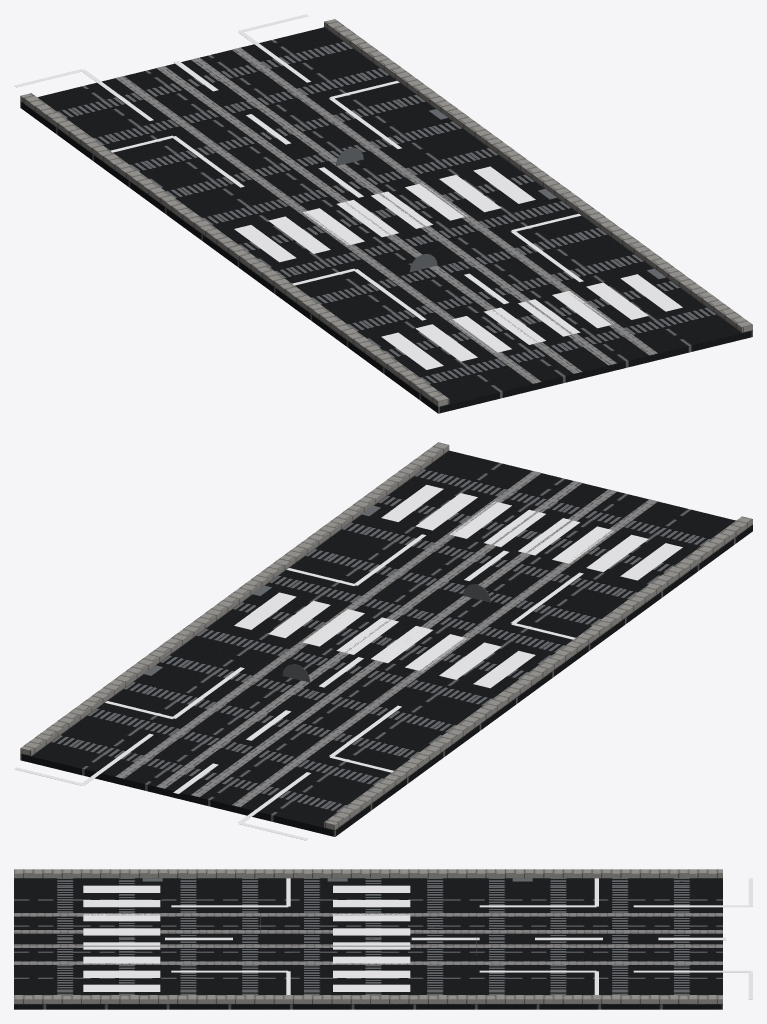
Rendered from turin_roadway_boulevard.glb.
The picture shows the model from 3 angles, top to bottom: view 1: azimuth 30°, elevation 25°; view 2: azimuth 150°, elevation 25°; view 3: azimuth 270°, elevation 25°; orthographic projection. The views are drawn at different scales.
Visible parts, largest first — view 1: BoulevardAsphalt, GraniteCurbs, ZebraCrossings, TramRailSetts, TramRailSteel, ParkingMarkings, DrainGrates, WhiteCenterLine; view 2: BoulevardAsphalt, GraniteCurbs, ZebraCrossings, TramRailSetts, TramRailSteel, ParkingMarkings, DrainGrates, WhiteCenterLine; view 3: BoulevardAsphalt, GraniteCurbs, ZebraCrossings, TramRailSetts, TramRailSteel, ParkingMarkings, WhiteCenterLine, DrainGrates.
Boxes of the visible parts, box(x1,y1,x2,y2) form: BoulevardAsphalt: box(20, 27, 752, 413); GraniteCurbs: box(20, 19, 752, 406); ZebraCrossings: box(234, 166, 682, 369); TramRailSetts: box(115, 47, 657, 383); TramRailSteel: box(118, 48, 654, 383); ParkingMarkings: box(14, 14, 583, 320); DrainGrates: box(149, 109, 665, 347); WhiteCenterLine: box(173, 60, 508, 304); BoulevardAsphalt: box(20, 450, 752, 836); GraniteCurbs: box(20, 442, 752, 830); ZebraCrossings: box(234, 484, 682, 688); TramRailSetts: box(115, 471, 657, 807); TramRailSteel: box(118, 471, 654, 806); ParkingMarkings: box(14, 534, 583, 840); DrainGrates: box(144, 505, 660, 744); WhiteCenterLine: box(173, 550, 508, 793); BoulevardAsphalt: box(14, 878, 722, 1009); GraniteCurbs: box(14, 869, 722, 1004); ZebraCrossings: box(83, 885, 410, 991); TramRailSetts: box(14, 913, 722, 964); TramRailSteel: box(14, 914, 722, 963); ParkingMarkings: box(171, 878, 752, 999); WhiteCenterLine: box(165, 937, 726, 940); DrainGrates: box(142, 878, 532, 955).
Bounding box in the file's own units: 10 × 0.88 × 23.97.
7 materials, 3 textured.
